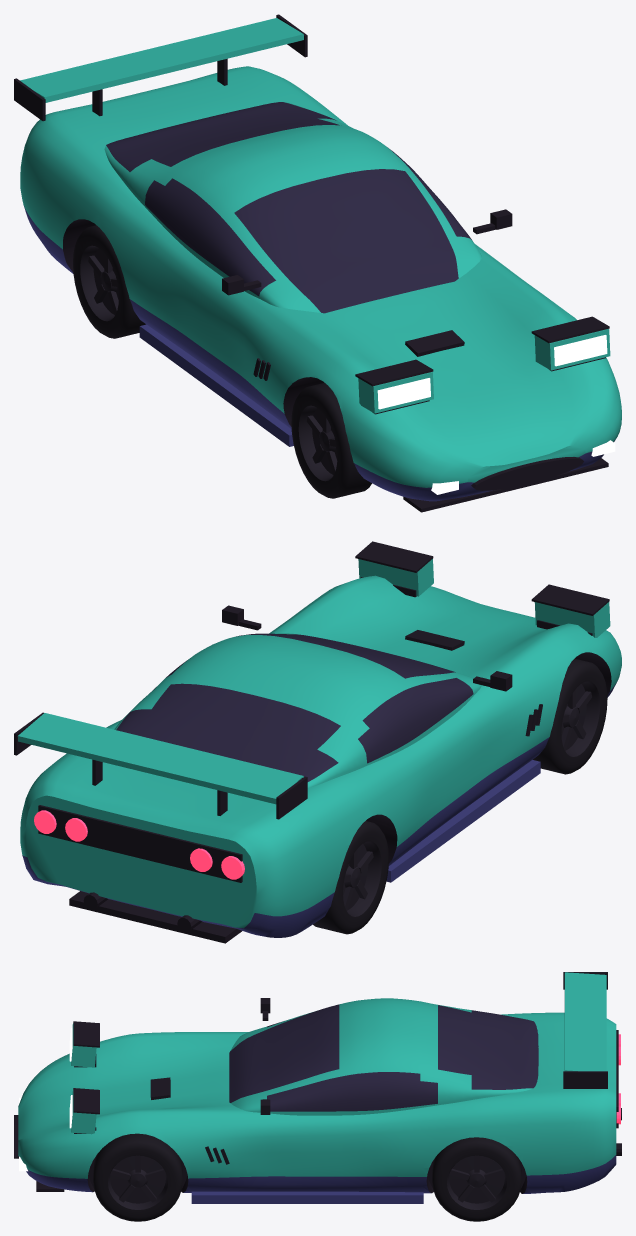
The picture shows the model from 3 angles, top to bottom: view 1: azimuth 30°, elevation 25°; view 2: azimuth 150°, elevation 25°; view 3: azimuth 270°, elevation 25°; orthographic projection. The views are drawn at different scales.
Visible parts, largest first — view 1: body, wheel_fl, wheel_rl; view 2: body, wheel_fl, wheel_rl; view 3: body, wheel_fr, wheel_rr.
Part boxes in pixels (box(x1,y1,x2,y2)): body: box(14, 14, 621, 512); wheel_fl: box(291, 383, 371, 498); wheel_rl: box(73, 225, 145, 338); body: box(14, 541, 621, 943); wheel_fl: box(533, 658, 607, 774); wheel_rl: box(313, 821, 388, 934); body: box(14, 972, 621, 1203); wheel_fr: box(93, 1133, 182, 1221); wheel_rr: box(432, 1137, 521, 1221).
Bounding box in the file's own units: 1.82 × 1.22 × 4.35.
